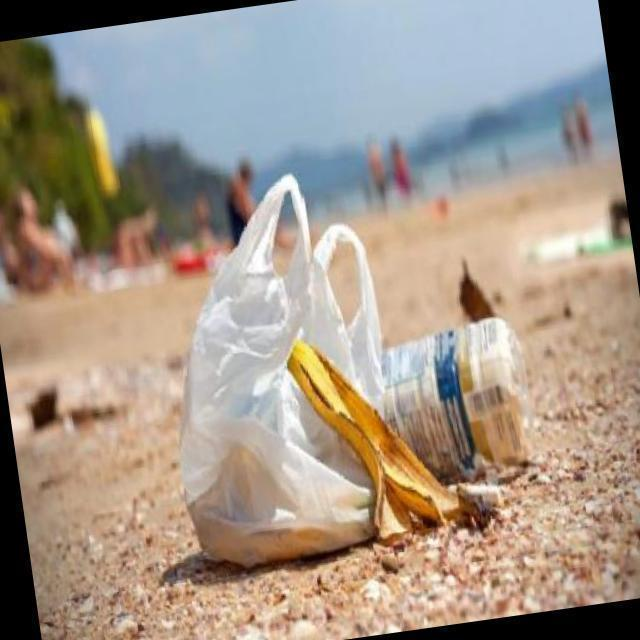Plastic_Bag: (139, 162, 415, 586)
